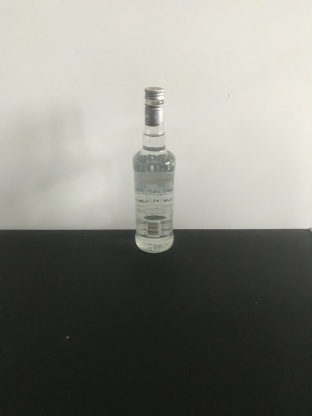nakretka: (143, 84, 165, 126)
